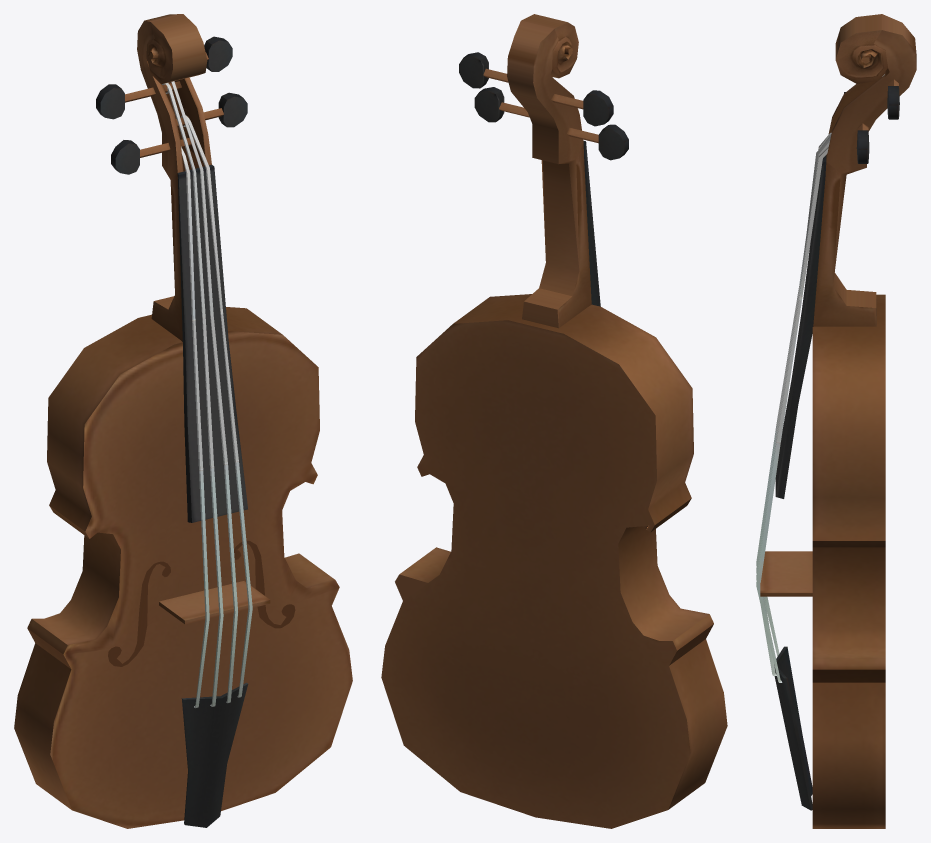
File: Guitar.fbx
The picture shows the model from 3 angles, left to right: view 1: azimuth 30°, elevation 25°; view 2: azimuth 150°, elevation 25°; view 3: azimuth 270°, elevation 25°; orthographic projection. The views are drawn at different scales.
Visible parts, largest first — view 1: Guitar; view 2: Guitar; view 3: Guitar.
Boxes of the visible parts, <box> form: Guitar: <box>14,14,352,828</box>; Guitar: <box>381,14,727,828</box>; Guitar: <box>756,14,916,828</box>.
Size of the model in its own units: 61.23 by 151 by 28.03.
Materials: 1 (1 with a texture image).
